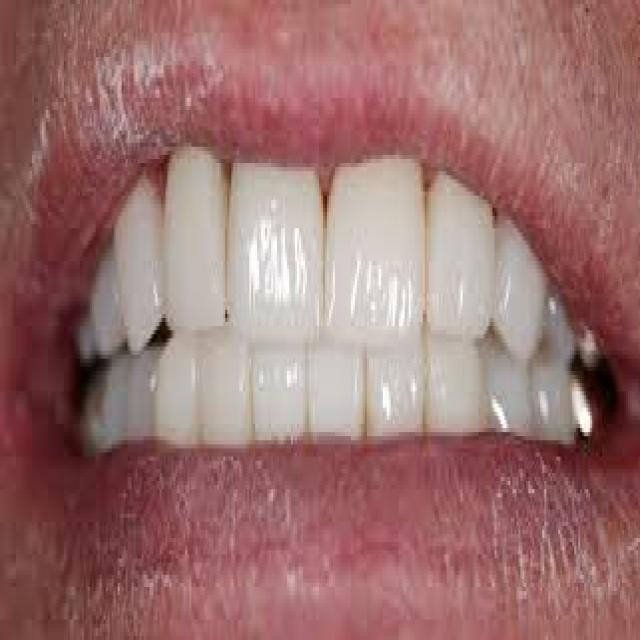tooth: (325, 151, 427, 346), (225, 159, 323, 338), (160, 143, 226, 342), (424, 163, 496, 342), (496, 200, 548, 363), (118, 192, 168, 342), (424, 318, 488, 432), (309, 326, 369, 440), (363, 326, 427, 428), (251, 330, 307, 440), (200, 326, 253, 436), (486, 338, 534, 441), (156, 338, 203, 436)
